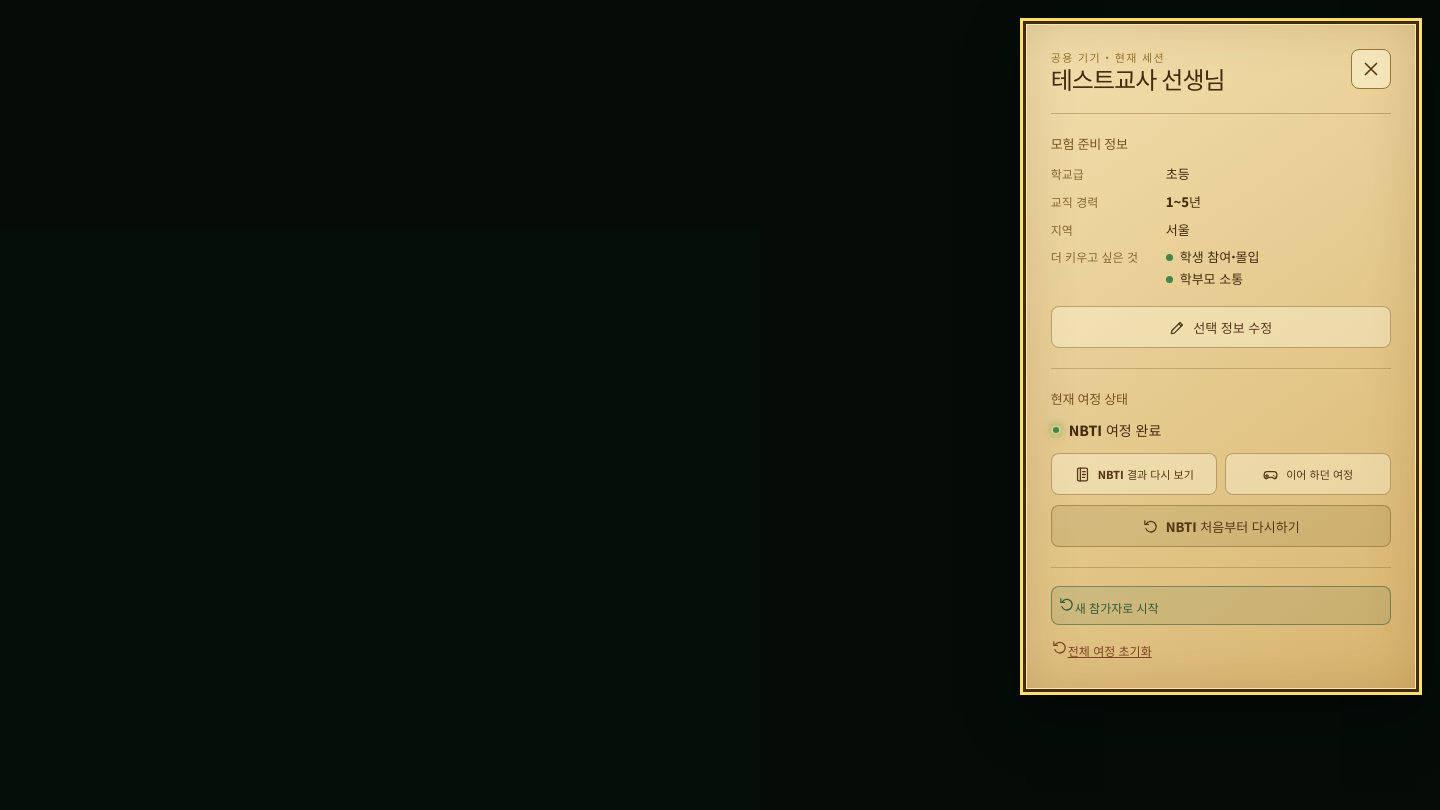
Scenario: TeacherPanel › asks for confirmation before running 전체 여정 초기화
The image size is (1440, 810).
What coordinates should you click on to do the following:
click the button "전체 여정 초기화"
I would click on:
 (1110, 651)
Its box is [1051, 634, 1391, 664].
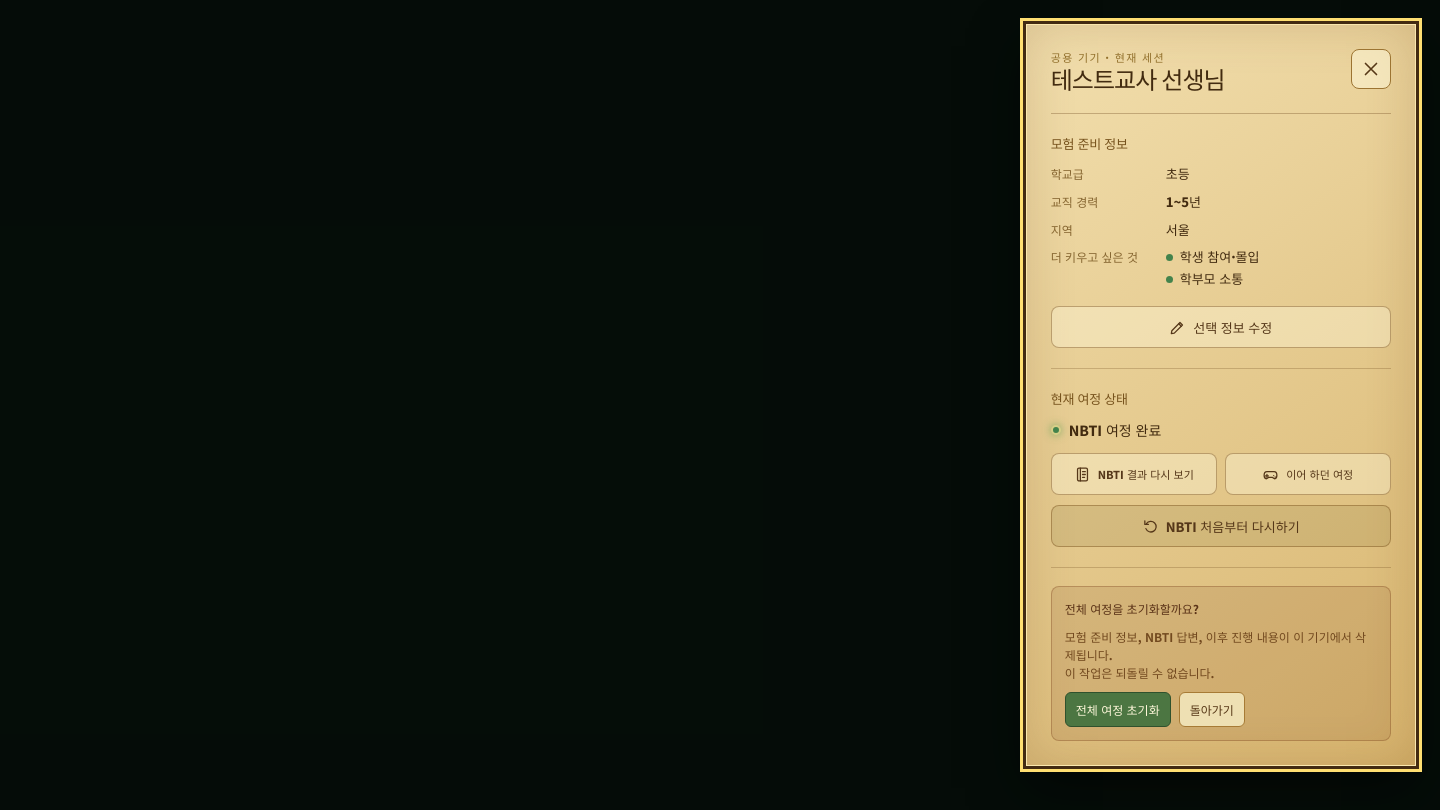
Now the text "전체 여정을 초기화할까요?" is shown, box [1065, 600, 1199, 617]
